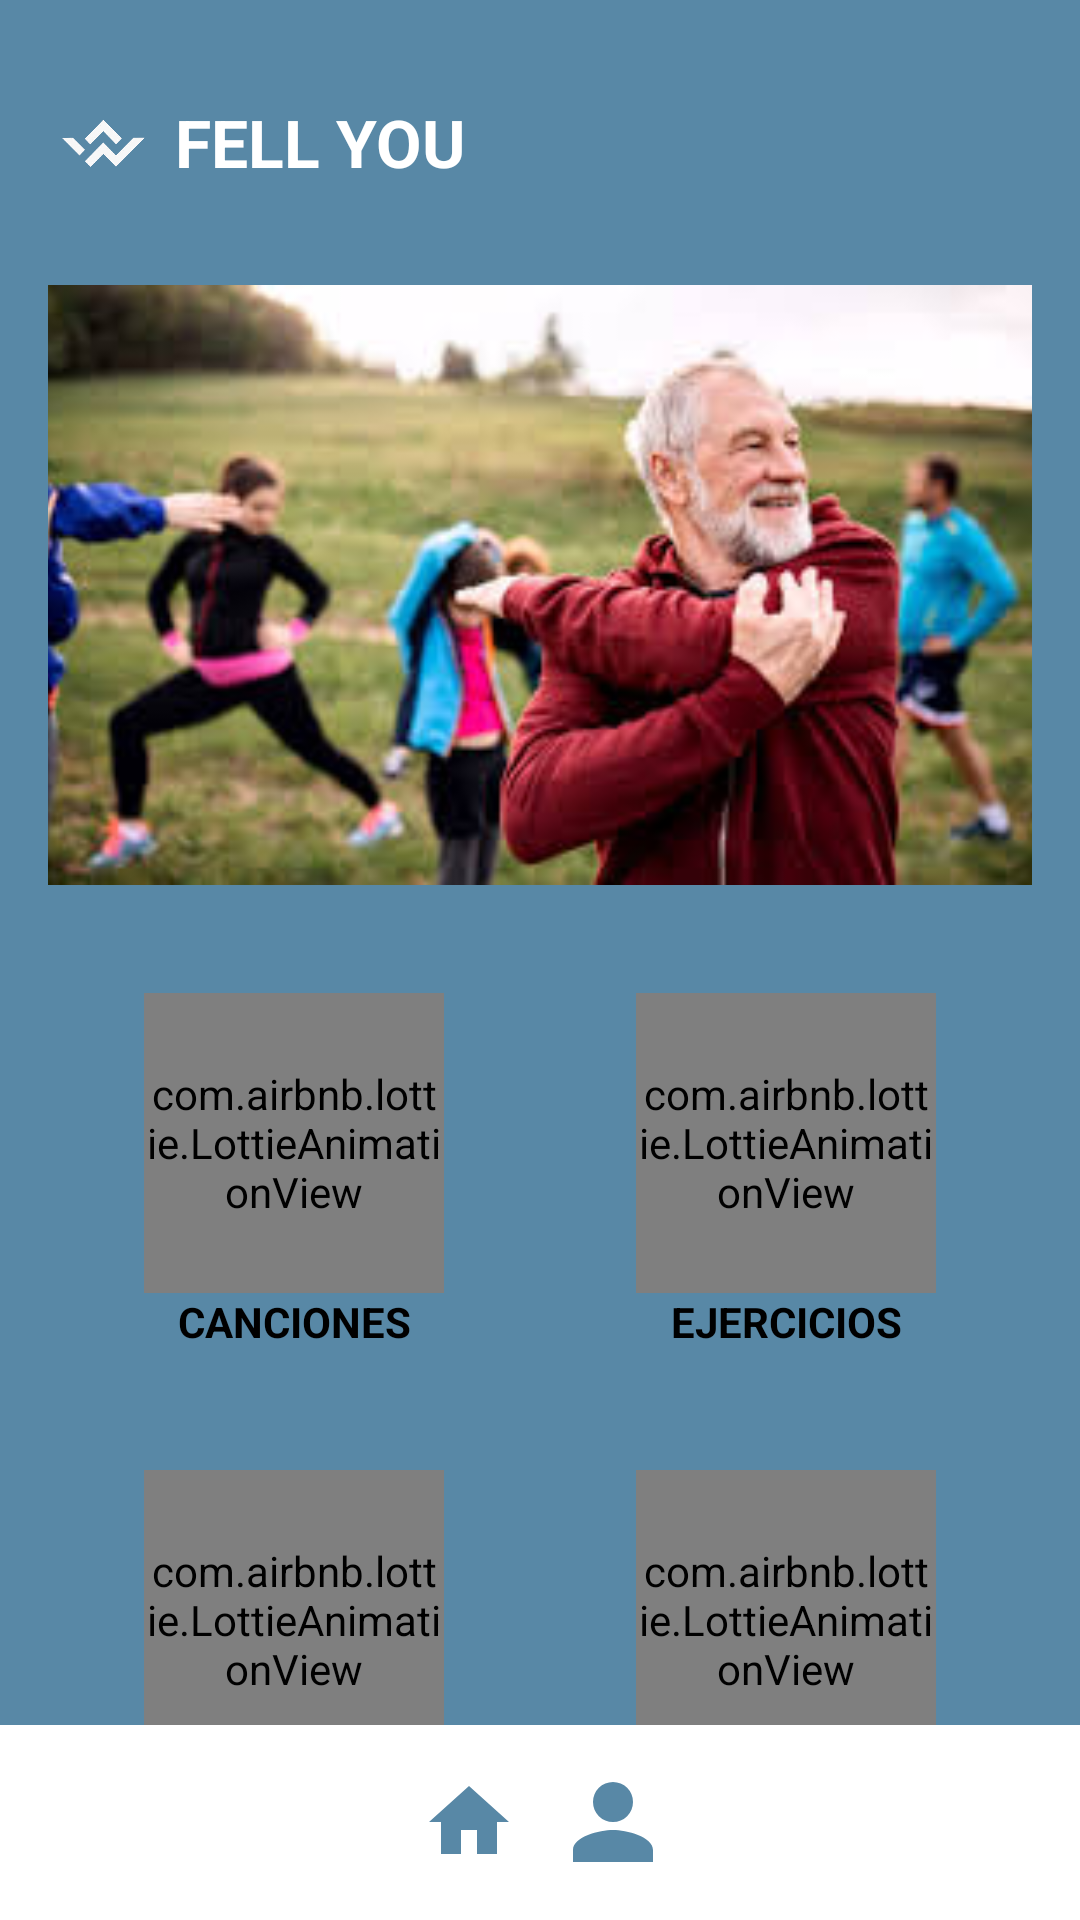

Where icons sit on this 1080w x 1920h app screen, as (x1=x1, y1=y1, x2=x2, y2=y2):
home: (x1=429, y1=1786, x2=509, y2=1854)
profile: (x1=573, y1=1782, x2=653, y2=1862)
